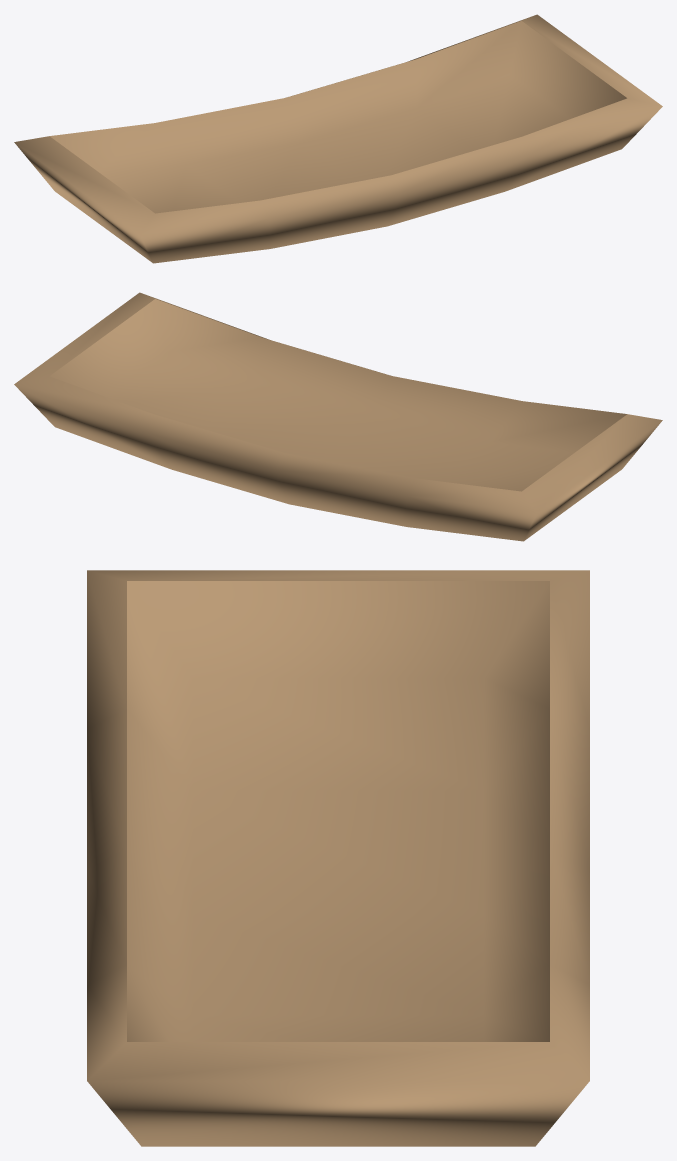
File: dish_002.fbx
3 renders of one model, top to bottom at view 1: azimuth 30°, elevation 25°; view 2: azimuth 150°, elevation 25°; view 3: azimuth 270°, elevation 25°, orthographic. The views are drawn at different scales.
Parts seen in each view (by area): view 1: dish_002; view 2: dish_002; view 3: dish_002.
Part boxes in pixels (bbox=[...]): dish_002: bbox=[14, 14, 662, 263]; dish_002: bbox=[14, 292, 662, 541]; dish_002: bbox=[87, 570, 589, 1146].
Bounding box in the file's own units: 117 × 15.67 × 48.81.
